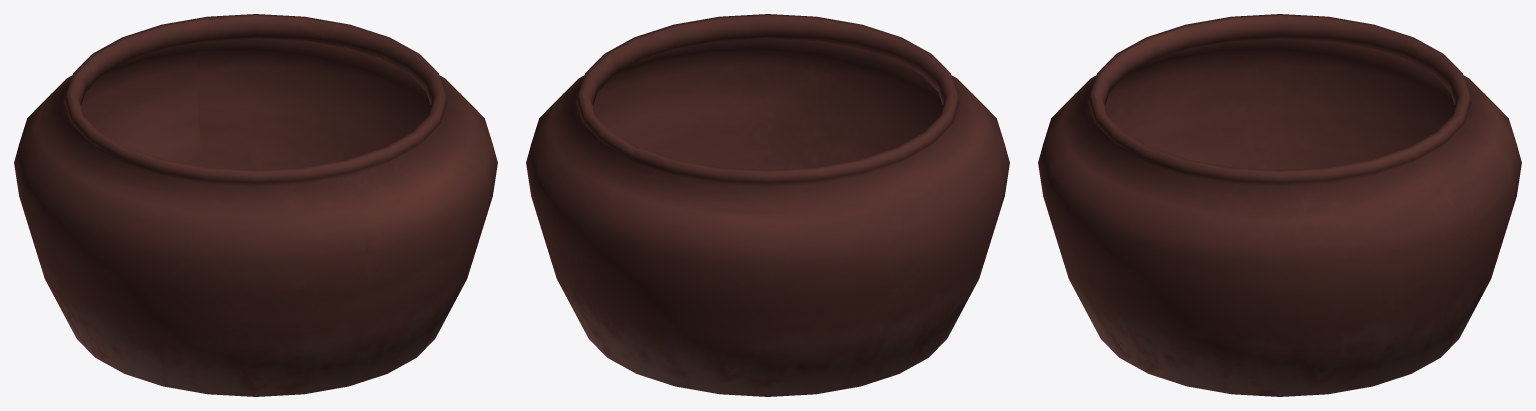
The model's file is clay_bowl.glb.
3 renders of one model, left to right at view 1: azimuth 30°, elevation 25°; view 2: azimuth 150°, elevation 25°; view 3: azimuth 270°, elevation 25°, orthographic.
Visible parts, largest first — view 1: Pottery1_Pottery1_0; view 2: Pottery1_Pottery1_0; view 3: Pottery1_Pottery1_0.
Boxes of the visible parts, x1,y1,x2,y2 form: Pottery1_Pottery1_0: (14,14,497,396); Pottery1_Pottery1_0: (526,14,1009,396); Pottery1_Pottery1_0: (1038,14,1521,396).
Size of the model in its own units: 0.4637 by 0.2424 by 0.4637.
Materials: 1 (1 with a texture image).
